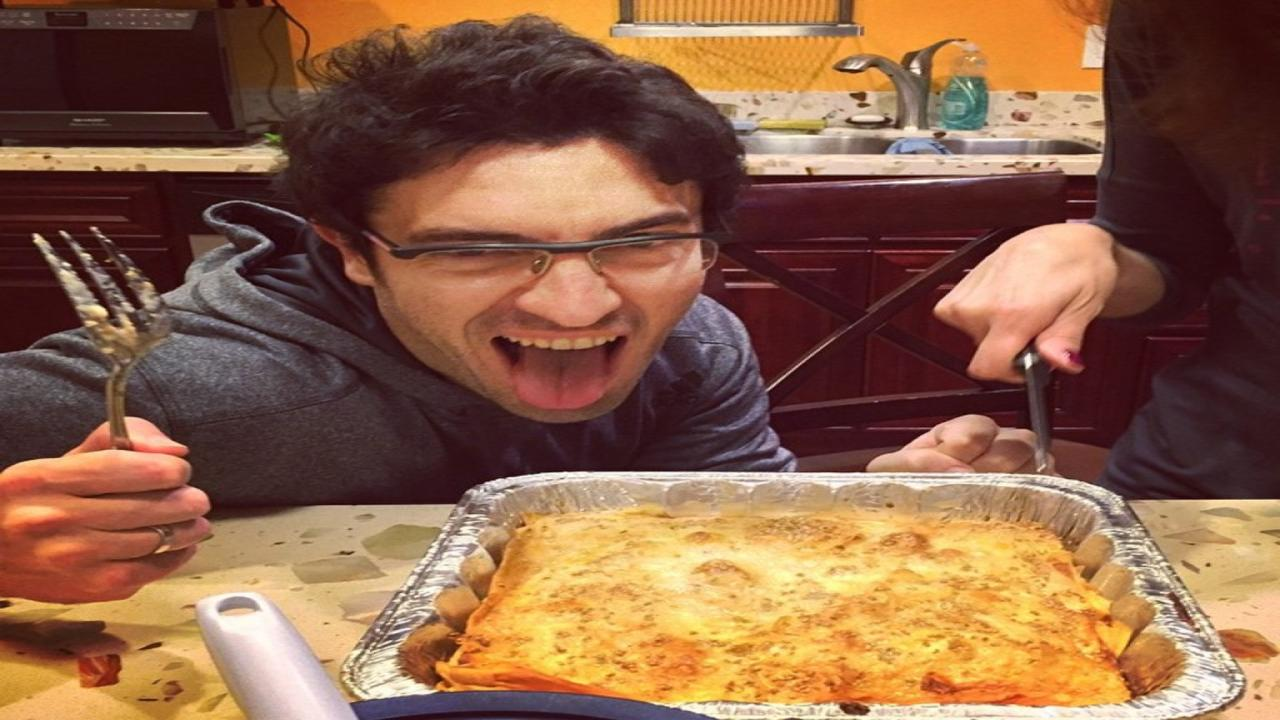fork: (28, 223, 184, 460)
